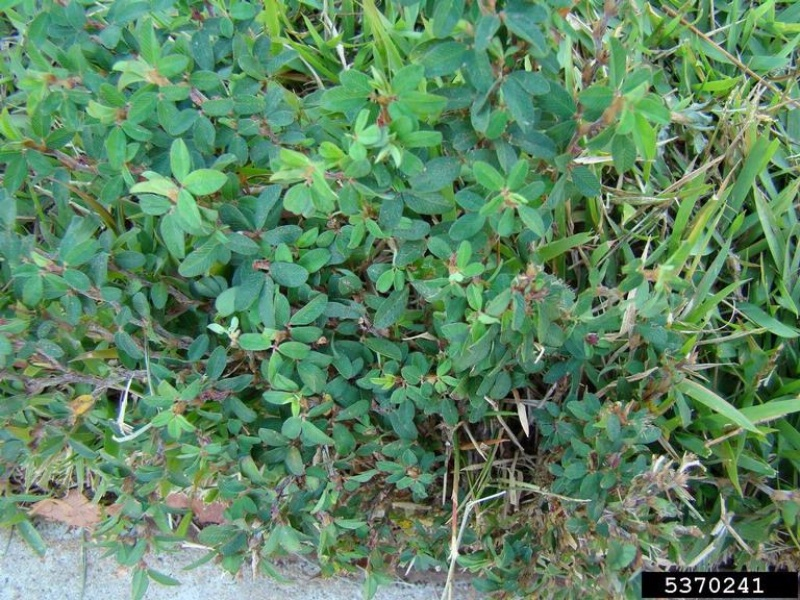weed: (420, 26, 518, 118), (565, 405, 641, 492), (142, 147, 218, 223), (418, 243, 490, 322), (266, 354, 344, 424), (27, 235, 106, 303), (214, 64, 286, 138), (274, 153, 352, 219), (474, 163, 546, 232), (376, 153, 445, 225), (121, 41, 196, 106), (350, 69, 427, 130), (9, 112, 77, 181), (250, 291, 321, 351), (33, 19, 94, 82), (148, 379, 196, 429)
